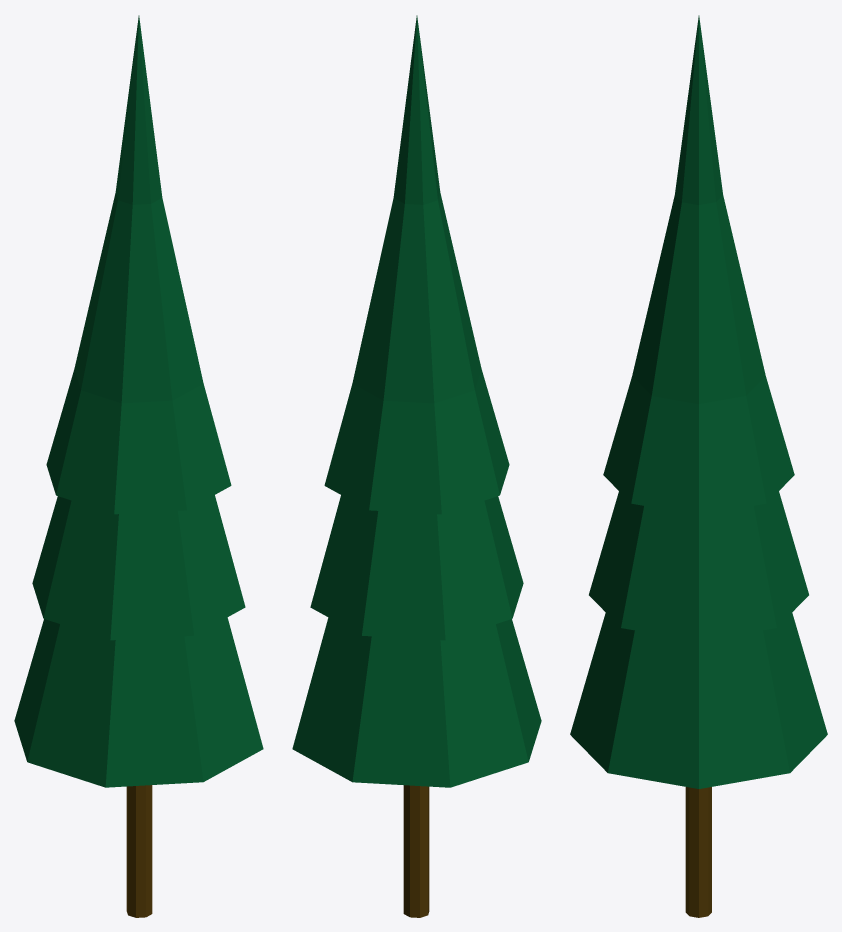
Rendered from tall_pine.fbx.
3 views of the same model, side by side, from view 1: azimuth 30°, elevation 25°; view 2: azimuth 150°, elevation 25°; view 3: azimuth 270°, elevation 25° (orthographic).
Parts seen in each view (by area): view 1: tall_pine; view 2: tall_pine; view 3: tall_pine.
Boxes of the visible parts, box(x1,y1,x2,y2) form: tall_pine: box(14, 15, 263, 917); tall_pine: box(292, 15, 541, 917); tall_pine: box(570, 15, 827, 917).
Size of the model in its own units: 75.34 by 289 by 75.34.
